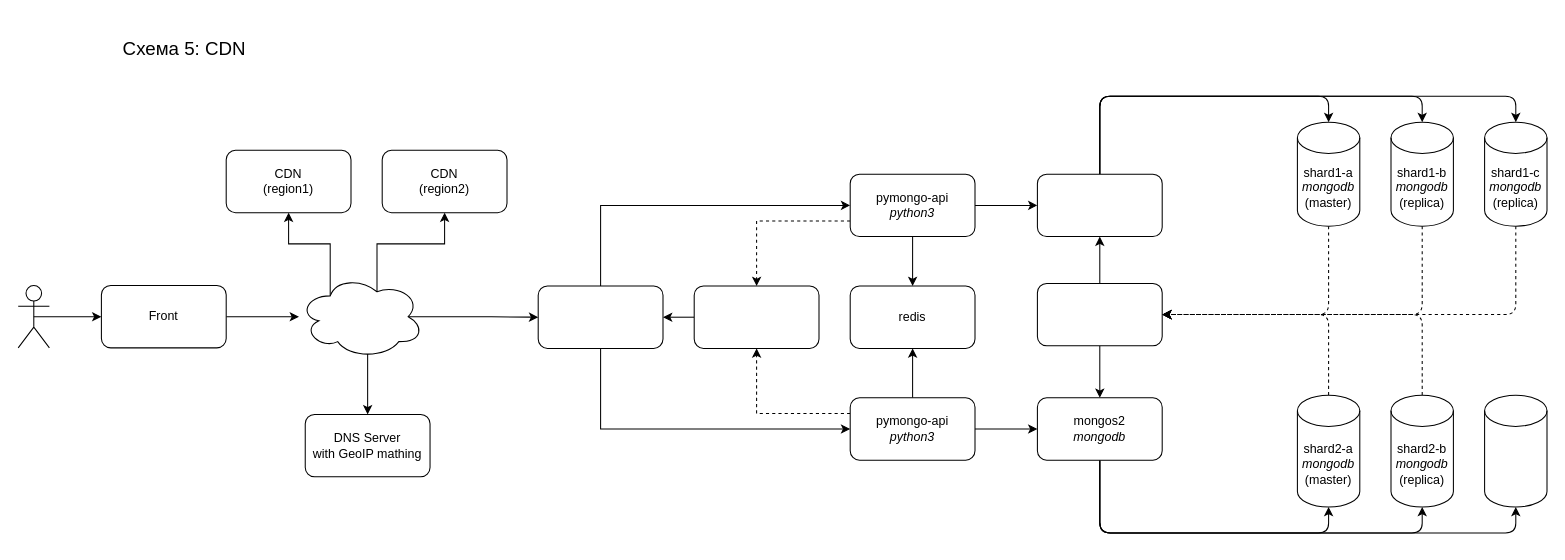
The diagram is 1565 pixels wide and 560 high, and some of its shapes have lost their labels. The shapes that lost their labels are listed below. From the top down, each one's box as (x1, y1, x2, y2) in pixels, then its label:
(1036, 173, 1162, 237): mongos1 mongodb
(17, 284, 49, 348): User
(298, 274, 424, 358): Internet
(537, 285, 663, 348): Api Gateway
(693, 285, 819, 348): Service Discovery ( Consul )
(1036, 282, 1162, 346): configSrv mongodb
(1484, 394, 1547, 507): shard2-c mongodb (replica)
